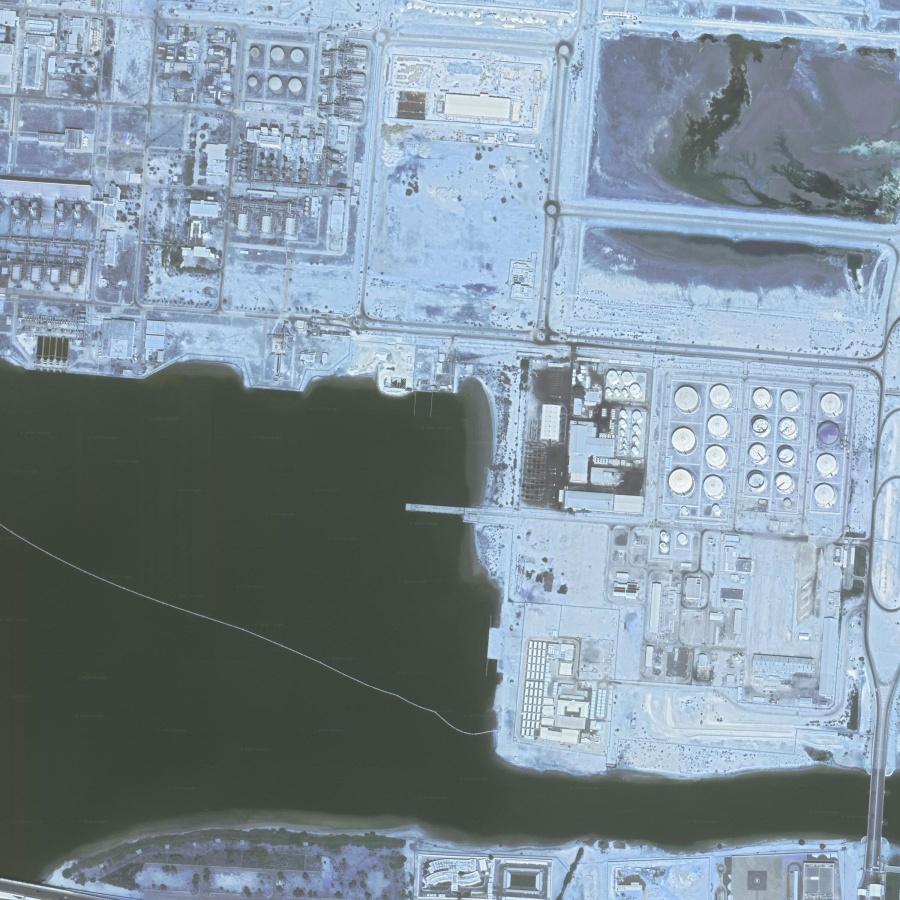PowerPlant: (502, 350, 858, 551)
